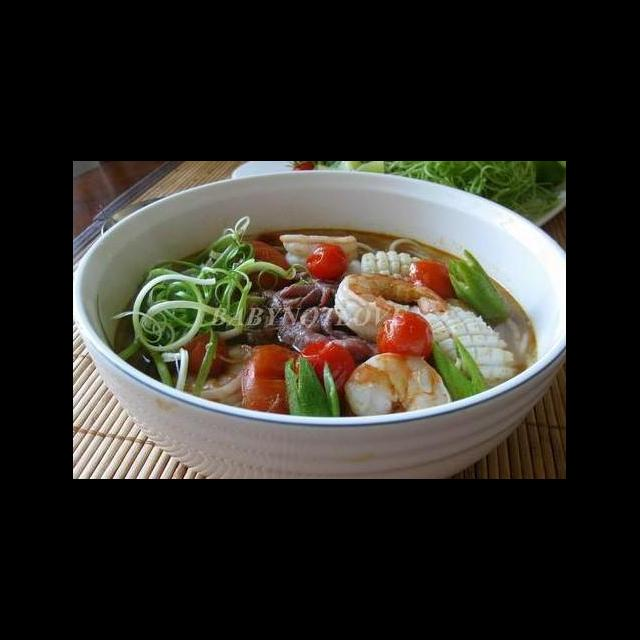muc: (407, 297, 522, 388), (356, 247, 430, 287)
tom: (339, 348, 454, 421)
